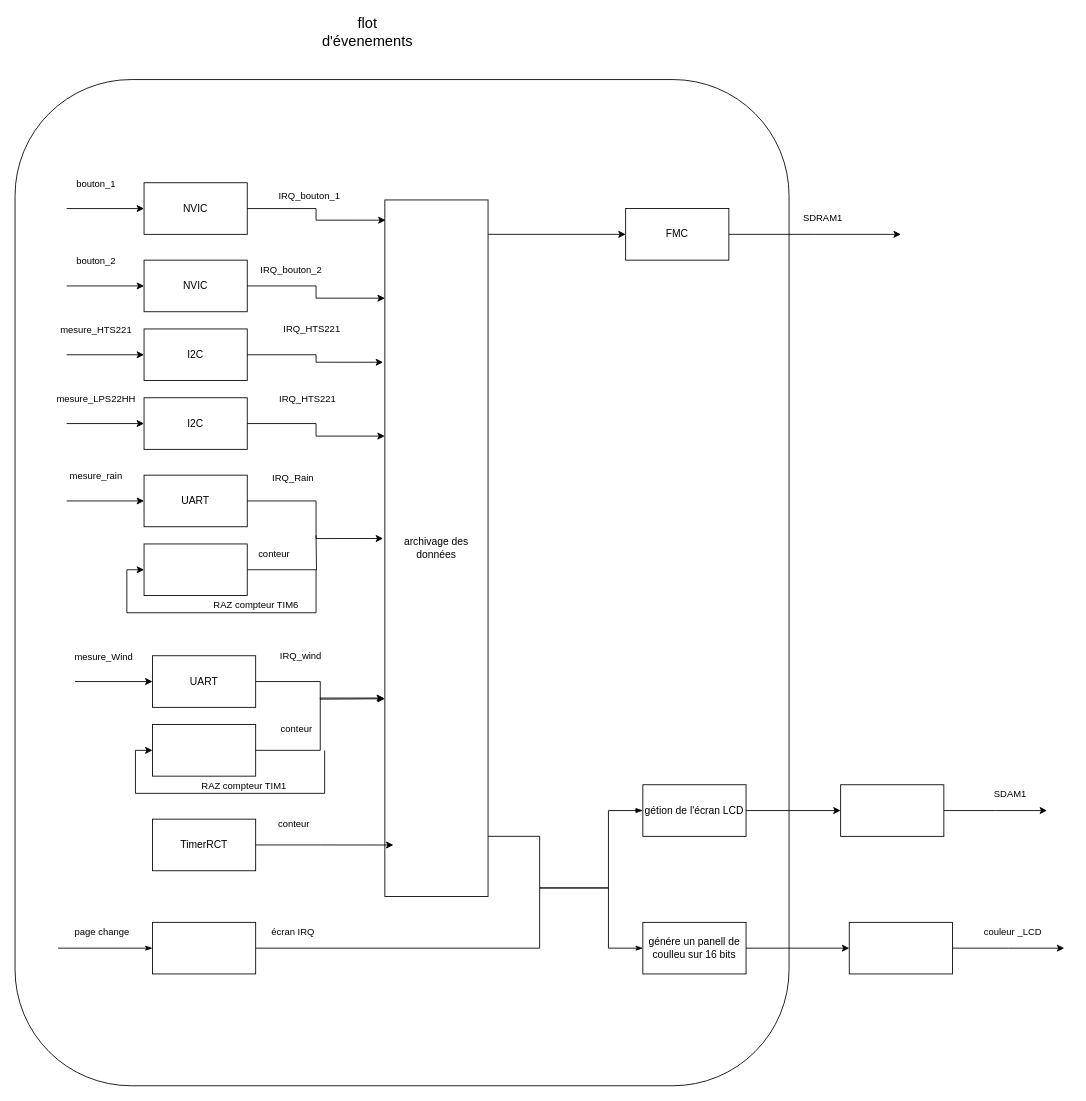
Image size: 1086x1101. Some labels were removed from this diagram. Each missing label, with the centre of its shape:
"DMA2D" belongs at [204,947].
"FCM" belongs at [892,810].
"LTDC" belongs at [900,947].
"Timer1" belongs at [204,750].
"Timer6" belongs at [195,569].
